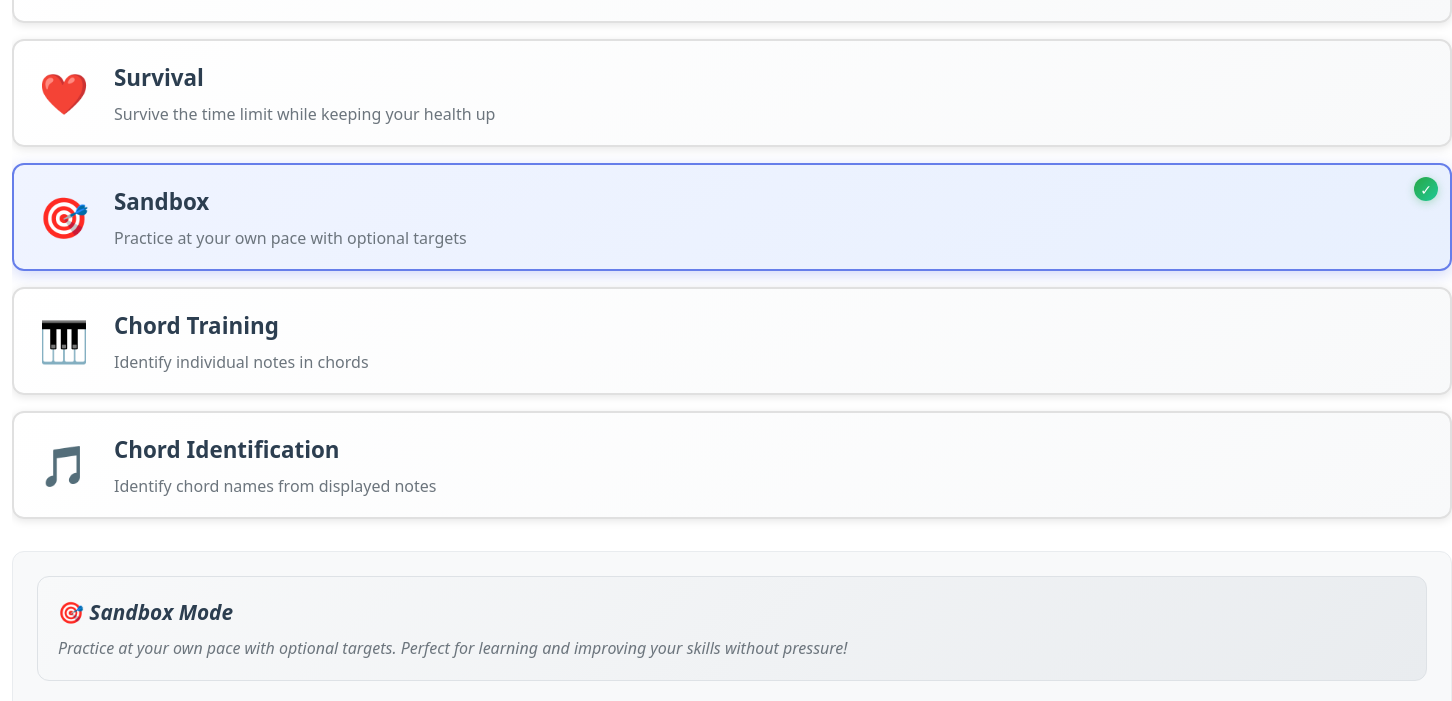
Test case: Training Type Switching Integration Test › Cross-Training Type Switching › should switch from Survival (ear-training) to Chord Identification (note-training)
Step 1. Click the text "Survival" → (732, 93), box [12, 39, 1451, 147]
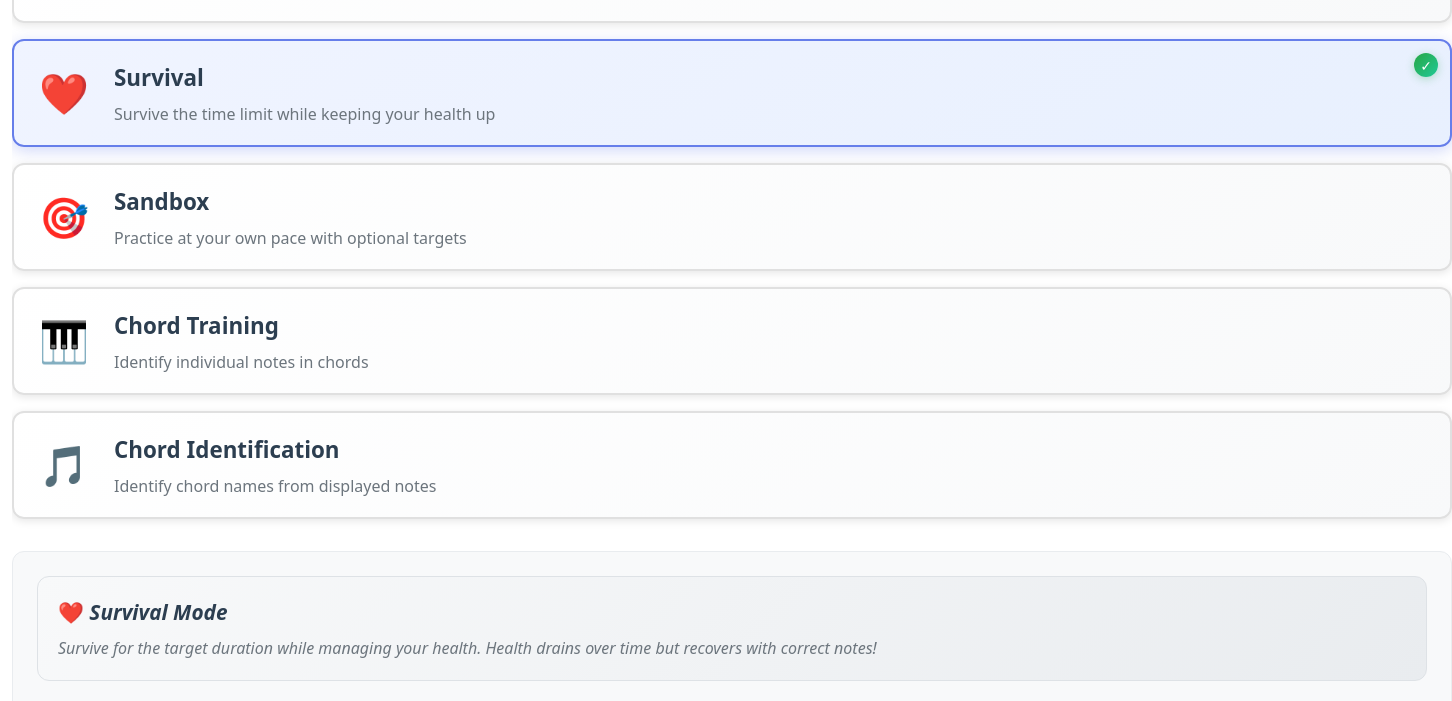
Step 2. Click the text "Chord Identification" → (732, 465), box [12, 411, 1451, 519]
(page scrolled)
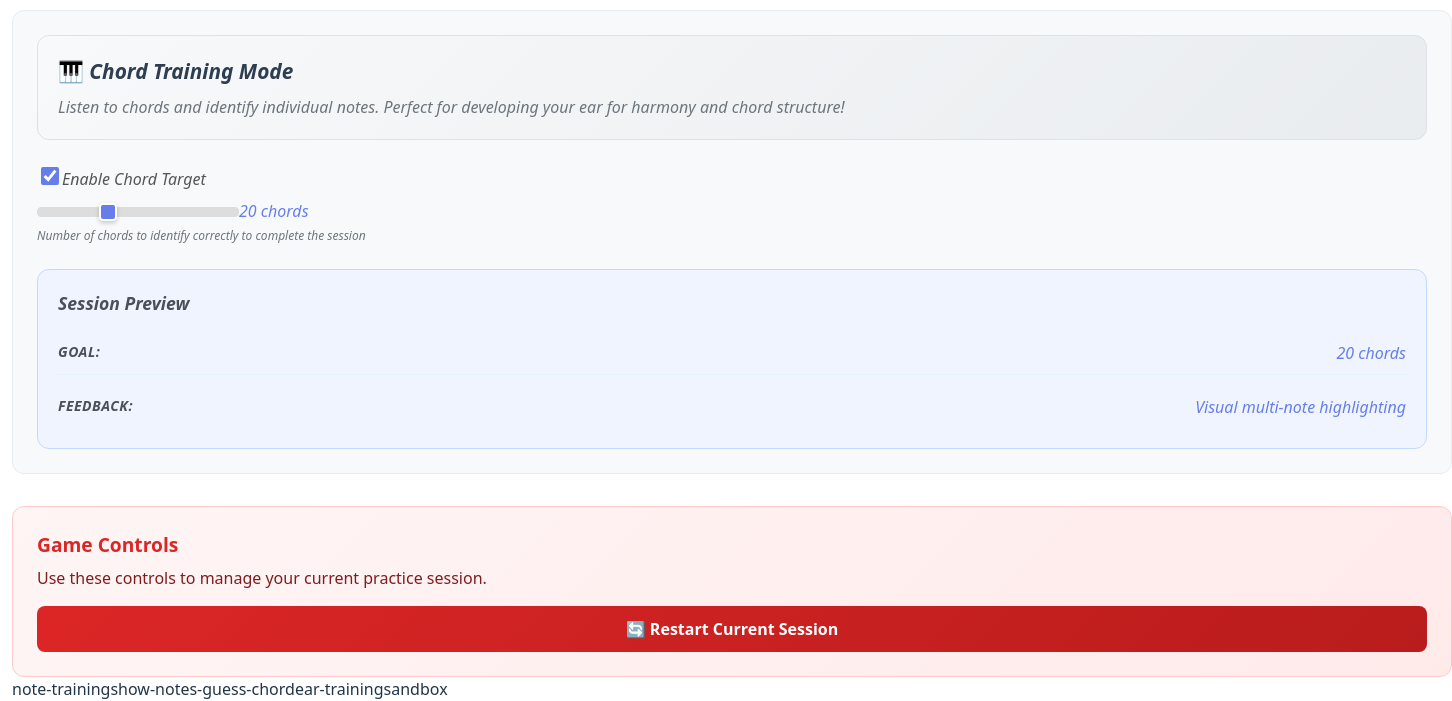
Result: the text with test id "pending-selected-mode" reads "show-notes-guess-chord" at [110, 678, 295, 700]
Result: the text with test id "pending-training-type" reads "note-training" at [12, 678, 110, 700]
